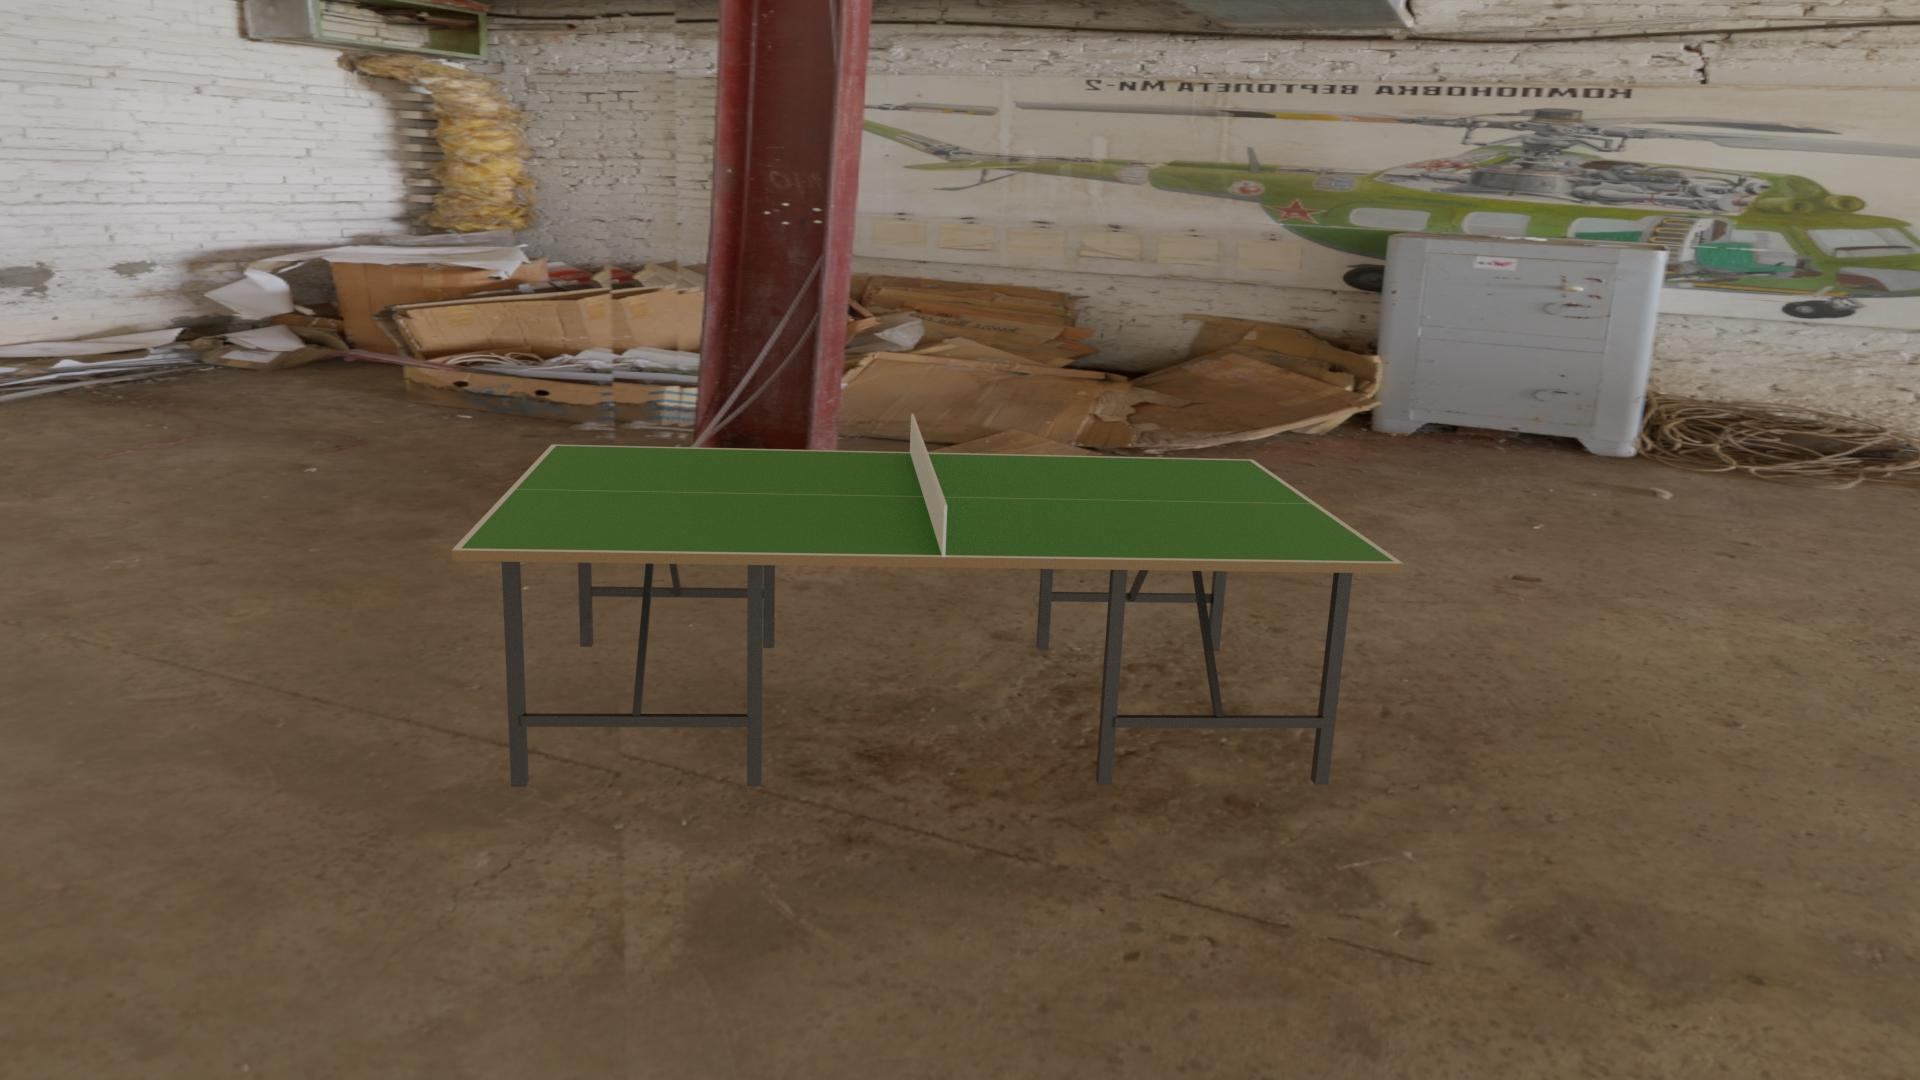table: (462, 446, 1394, 562)
